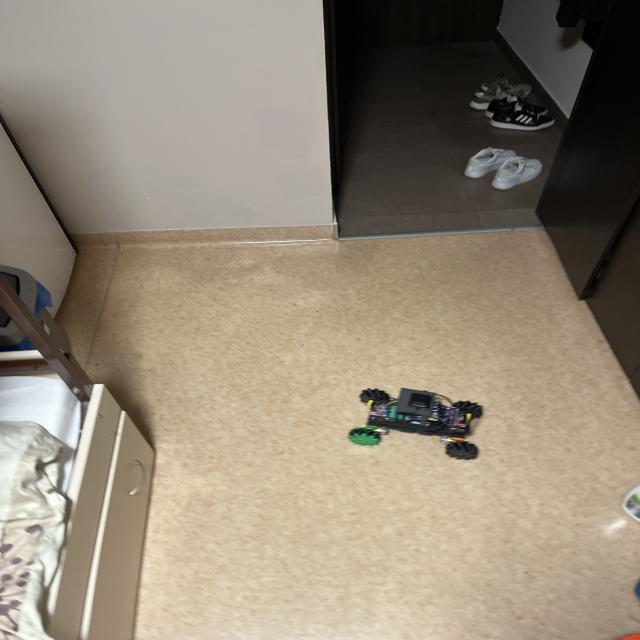robot: (349, 388, 483, 459)
